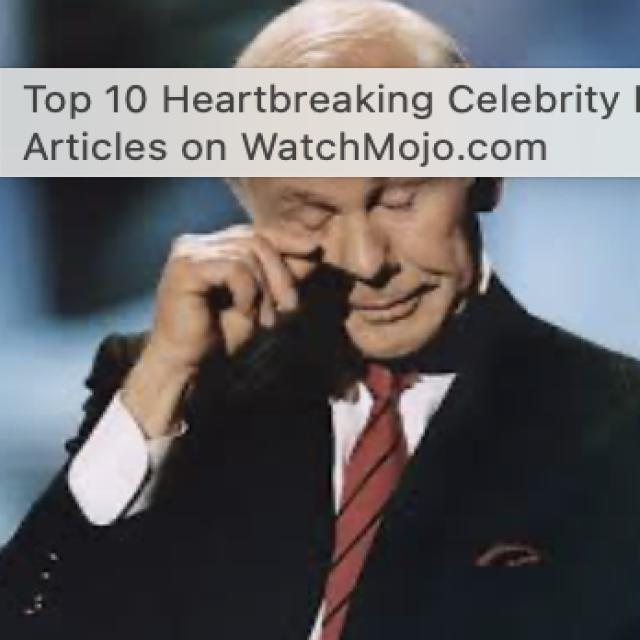sad: (201, 100, 525, 410)
